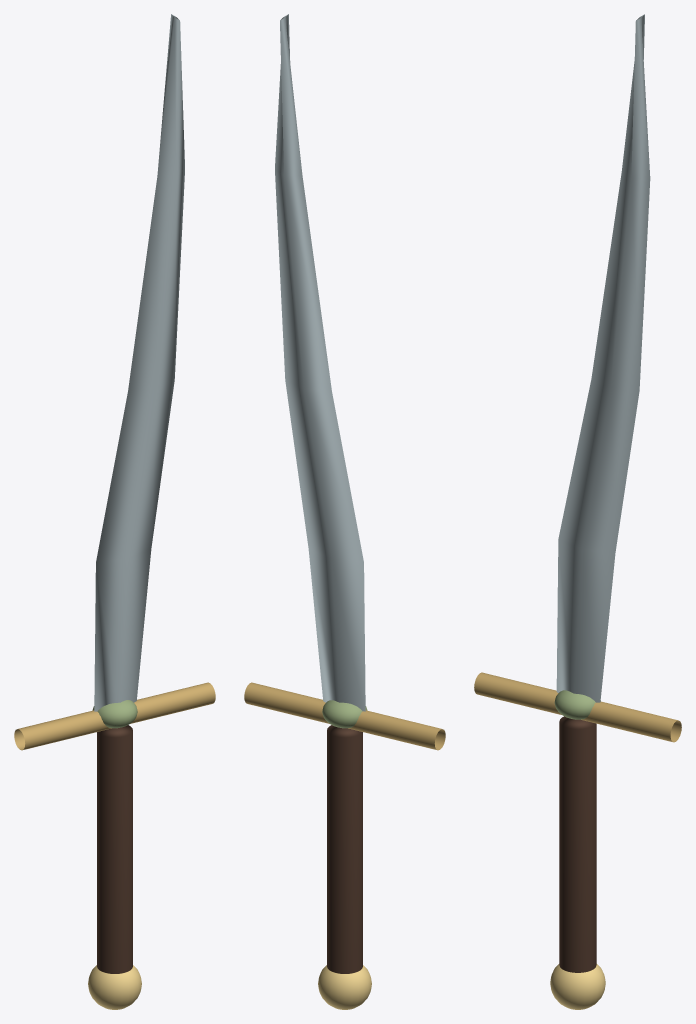
The model's file is Ionia_CaptainSaber_REVIEW.glb.
The picture shows the model from 3 angles, left to right: view 1: azimuth 30°, elevation 25°; view 2: azimuth 150°, elevation 25°; view 3: azimuth 330°, elevation 25°; orthographic projection. The views are drawn at different scales.
Parts seen in each view (by area): view 1: CaptainSaber; view 2: CaptainSaber; view 3: CaptainSaber.
Part boxes in pixels (x1=…): CaptainSaber: x1=14, y1=14, x2=215, y2=1009; CaptainSaber: x1=244, y1=14, x2=445, y2=1009; CaptainSaber: x1=474, y1=14, x2=681, y2=1009.
Bounding box in the file's own units: 0.22 × 1.08 × 0.054.
